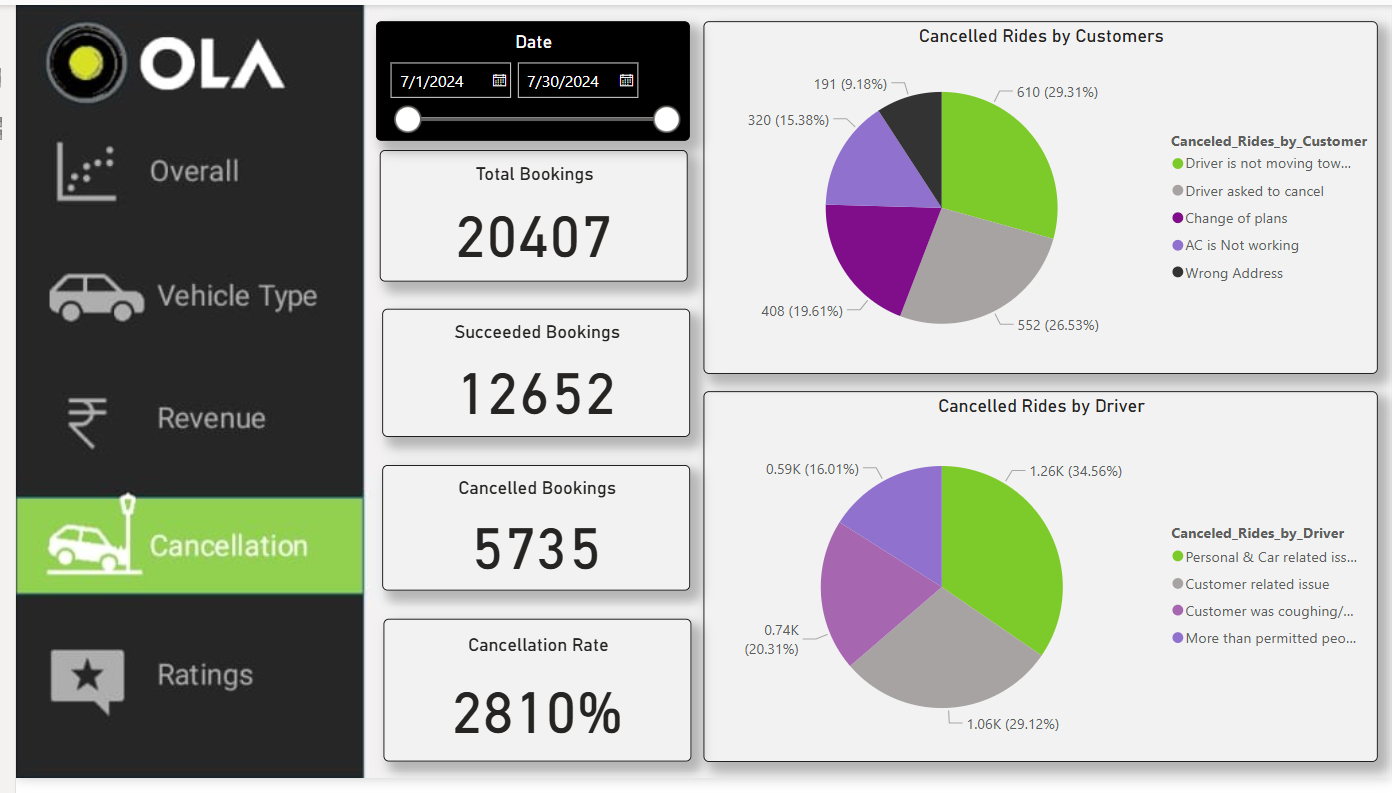

The page's visual inventory and layout, read from the dashboard file:
{"tool":"powerbi","page":{"name":"Cancellation","canvas":[1280,720],"ordinal":3},"visuals":[{"type":"actionButton","box":[0,220.8,324.5,90.5],"z":0},{"type":"actionButton","box":[0,220.8,324.5,90.5],"z":1000},{"type":"actionButton","box":[0,220.8,324.5,90.5],"z":2000},{"type":"actionButton","box":[0,337.8,324.5,91.7],"z":3000},{"type":"actionButton","box":[0,109.8,323.3,90.5],"z":4000},{"type":"actionButton","box":[0,577.9,325.7,90.5],"z":5000},{"type":"pieChart","title":"Cancelled Rides by Customers","fields":{"Category":["July_Cleaned.Canceled_Rides_by_Customer"],"Y":["CountNonNull(July_Cleaned.Canceled_Rides_by_Customer)"]},"box":[639.5,15.1,627.1,328],"z":6000},{"type":"pieChart","title":"Cancelled Rides by Driver","fields":{"Category":["July_Cleaned.Canceled_Rides_by_Driver"],"Y":["CountNonNull(July_Cleaned.Canceled_Rides_by_Driver)"]},"box":[639.4,359.5,627.3,345],"z":7000},{"type":"slicer","title":"Date","fields":{"Values":["July_Cleaned.Date"]},"box":[335.4,15.7,292,111],"z":8000},{"type":"card","title":"Total Bookings","fields":{"Values":["CountNonNull(July_Cleaned.Booking_ID)"]},"box":[338.9,134.5,286.8,122.1],"z":9000},{"type":"card","title":"Succeeded Bookings","fields":{"Values":["CountNonNull(July_Cleaned.Booking_ID)"]},"box":[340.3,282.7,286.8,119.4],"z":10000},{"type":"card","title":"Cancelled Bookings","fields":{"Values":["CountNonNull(July_Cleaned.Booking_ID)"]},"box":[340.3,428.1,286.8,116.6],"z":11000},{"type":"card","title":"Cancellation Rate","fields":{"Values":["July_Cleaned.CancelledBookingPercent"]},"box":[341.7,570.8,286.8,133.1],"z":12000}]}

Visuals, with their boxes in screenshot pixels (x1, y1, x2, y2), scaled from the page's 1280x720 canvas onto the 1392x793 screenshot:
actionButton: BBox(0, 243, 353, 343)
actionButton: BBox(0, 243, 353, 343)
actionButton: BBox(0, 243, 353, 343)
actionButton: BBox(0, 372, 353, 473)
actionButton: BBox(0, 121, 352, 221)
actionButton: BBox(0, 636, 354, 736)
"Cancelled Rides by Customers" pieChart: BBox(695, 17, 1377, 378)
"Cancelled Rides by Driver" pieChart: BBox(695, 396, 1378, 776)
"Date" slicer: BBox(365, 17, 682, 140)
"Total Bookings" card: BBox(369, 148, 680, 283)
"Succeeded Bookings" card: BBox(370, 311, 682, 443)
"Cancelled Bookings" card: BBox(370, 472, 682, 600)
"Cancellation Rate" card: BBox(372, 629, 683, 775)
